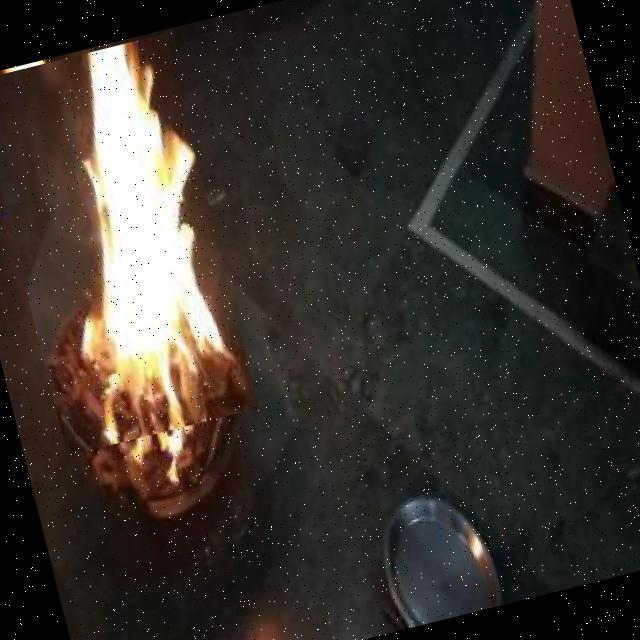fire: (0, 33, 258, 455)
